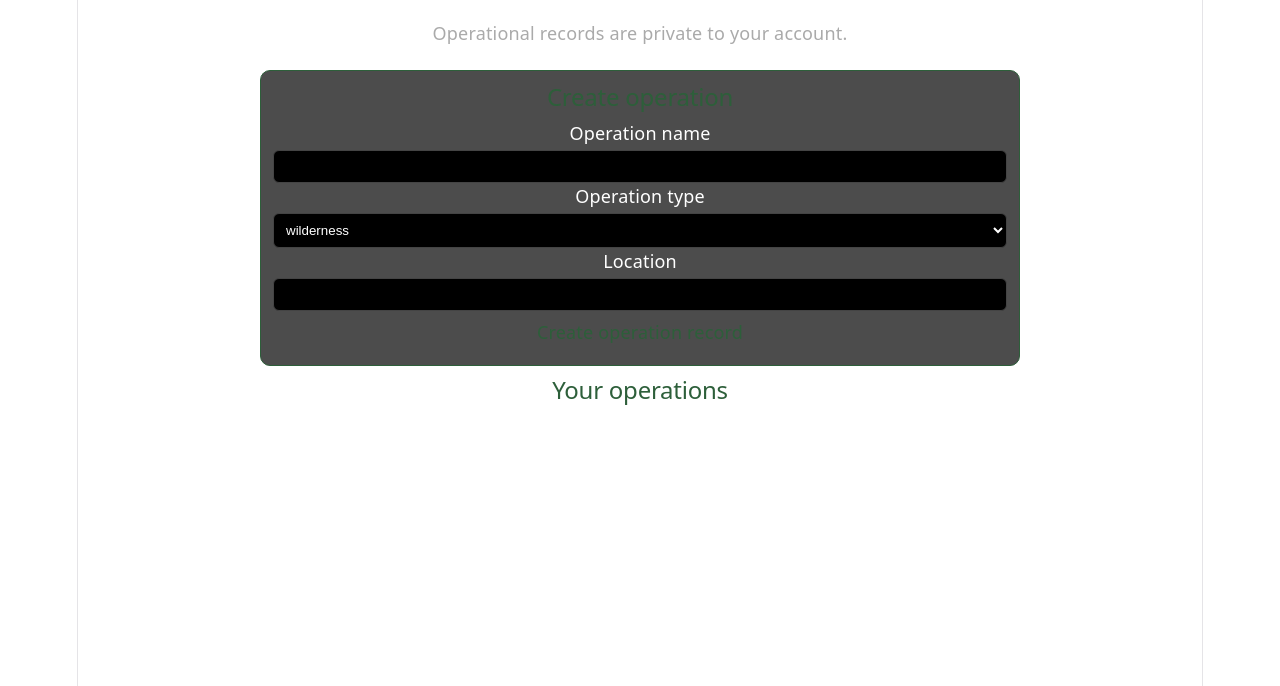
Test: TacticalOperationLog › creates a private SAR operation and logs team activity
The image size is (1280, 686).
Type "River search" into the field labelled "Operation name" at (640, 166), box 273,150 -> 1007,183
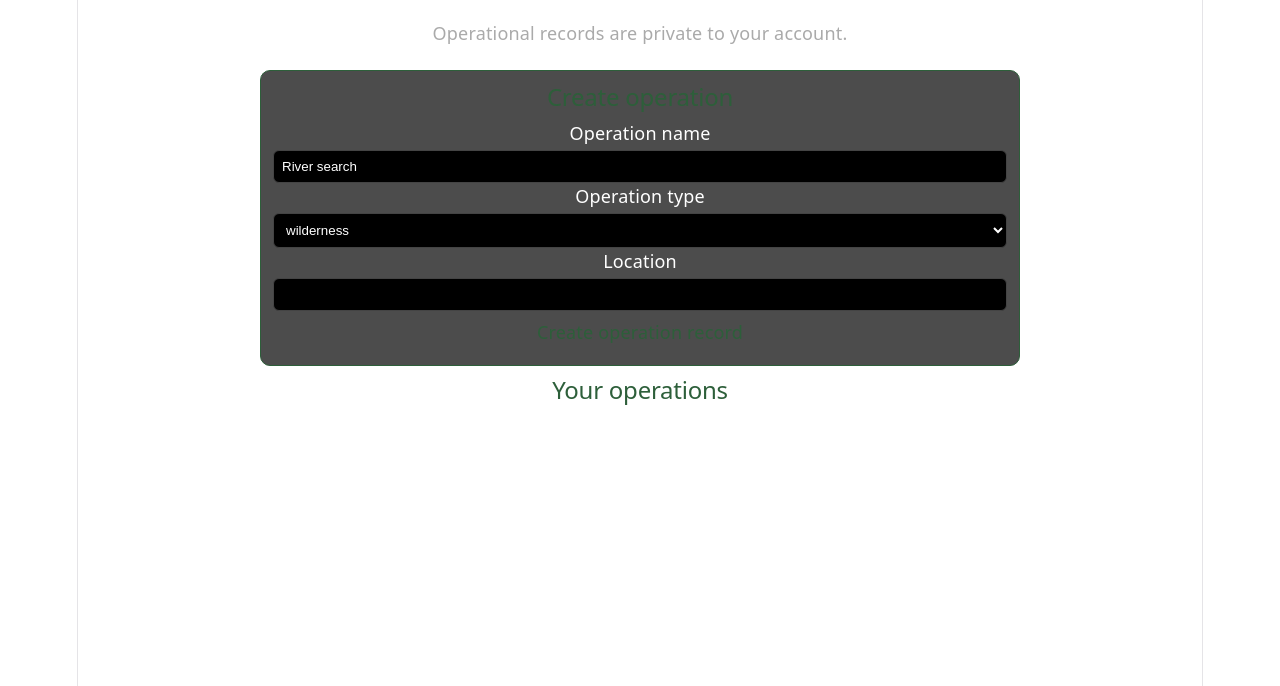
Click the button "Create operation record" at (640, 332), box 537,320 -> 743,344
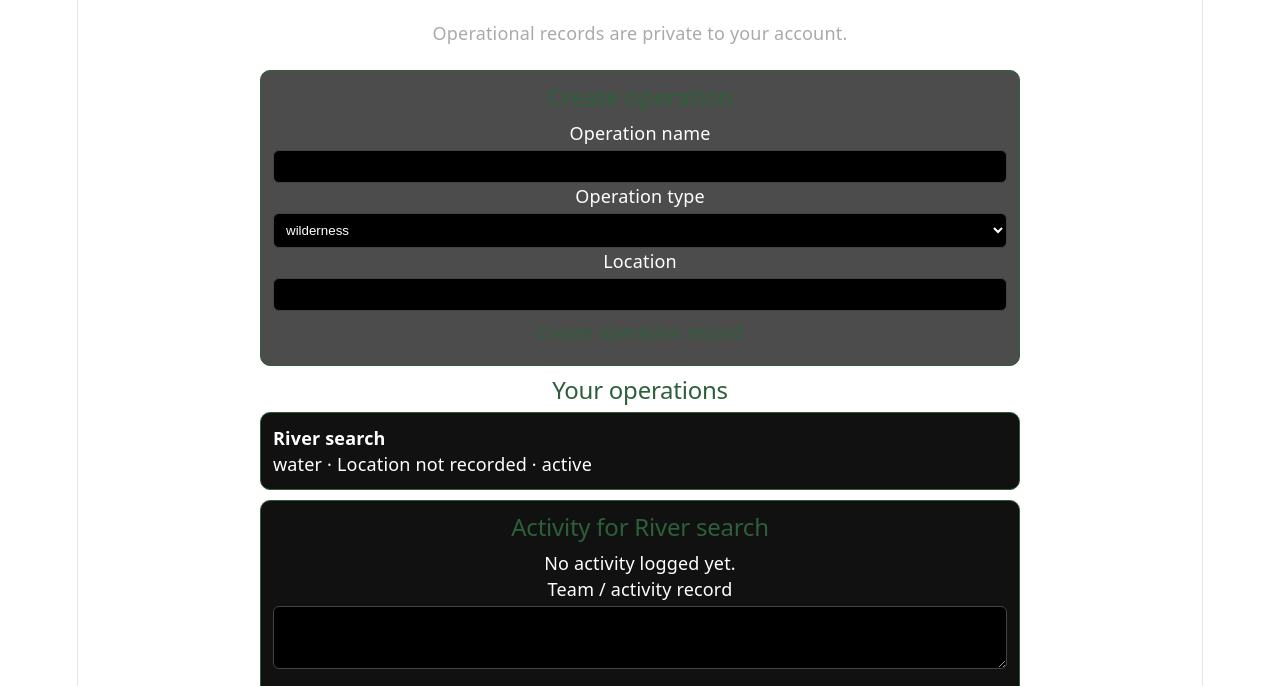
Now the heading "Activity for River search" is shown, box 511,510 -> 769,544
Type "North bank" into the text box labelled "Team / activity record" at (640, 638), box 273,606 -> 1007,669
(page scrolled)
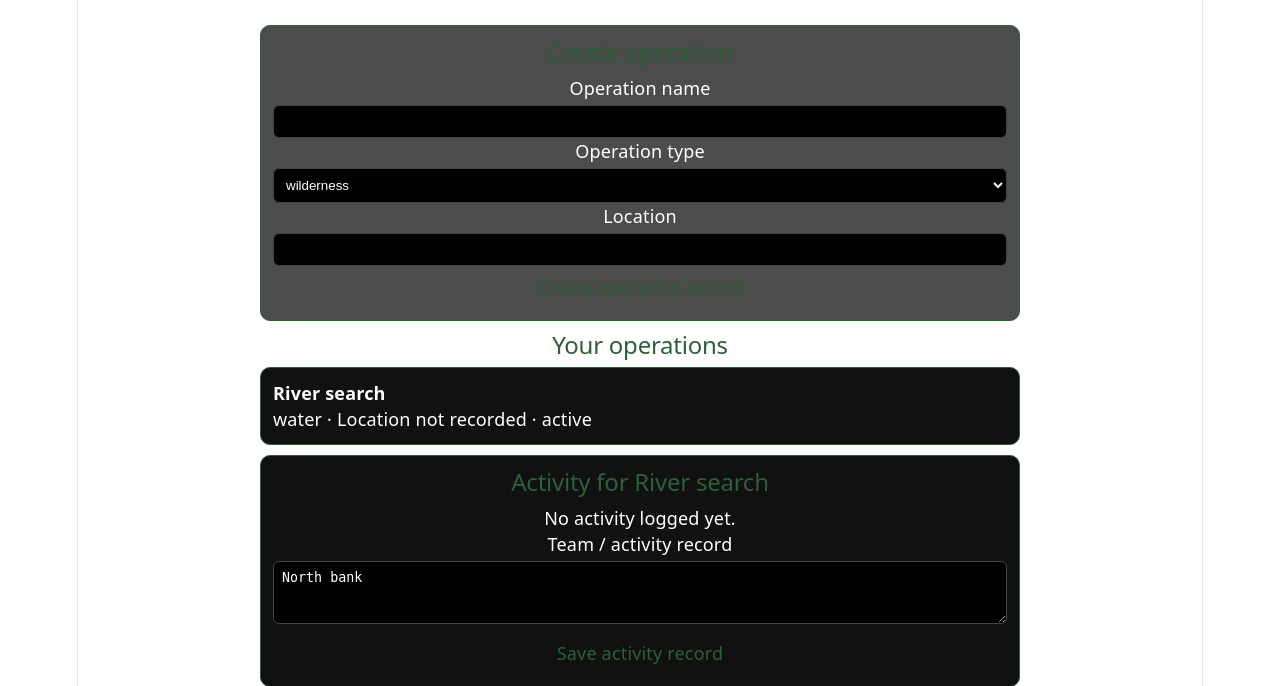
Click the button "Save activity record" at (640, 653), box 557,641 -> 723,665
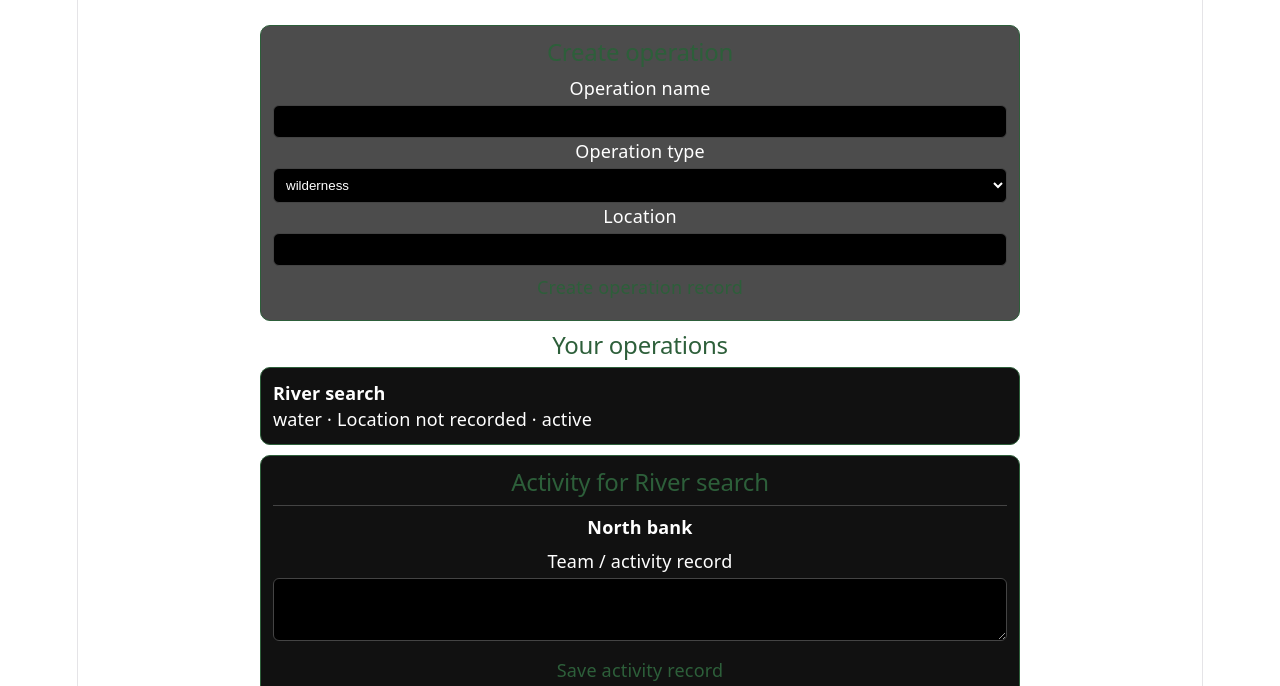
Now the text "North bank" is shown, box 587,515 -> 693,539
